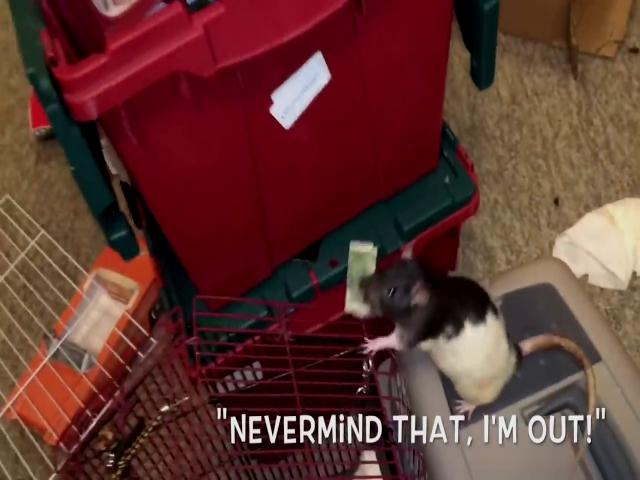Tikus: (359, 238, 597, 410)
